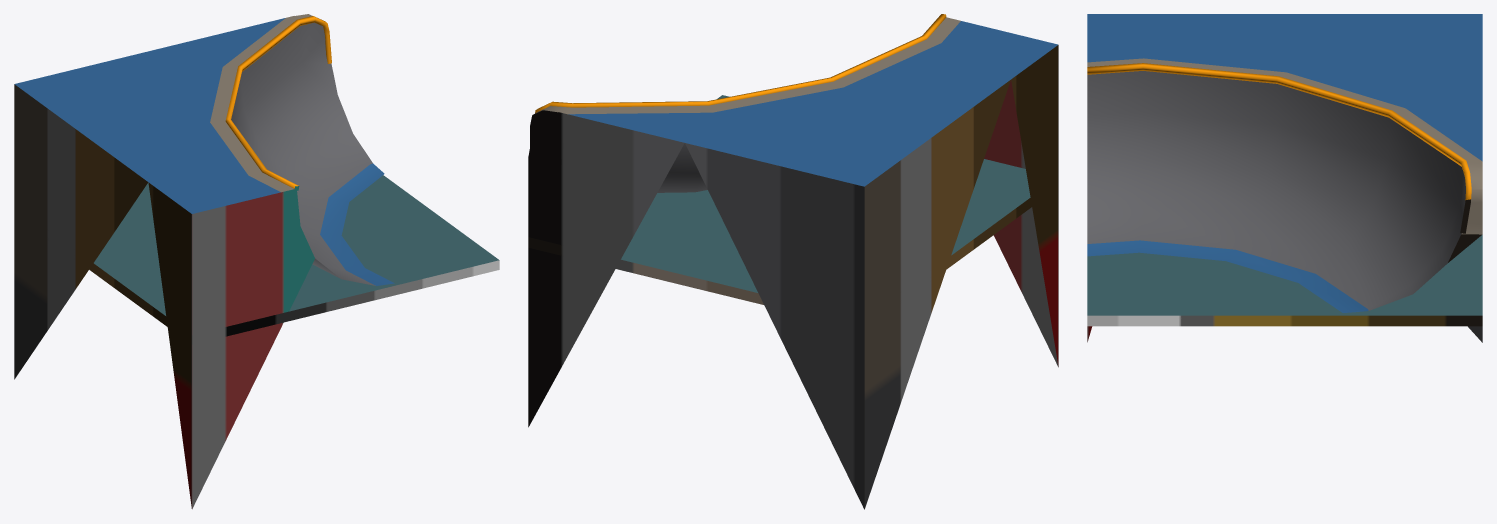
Rendered from tile_9_0_2.gltf.
3 renders of one model, left to right at view 1: azimuth 30°, elevation 25°; view 2: azimuth 150°, elevation 25°; view 3: azimuth 270°, elevation 25°, orthographic. The views are drawn at different scales.
Visible parts, largest first — view 1: pipe.main, ground, pipe.main.rim; view 2: pipe.main, ground, pipe.main.rim; view 3: pipe.main, ground, pipe.main.rim.
Part boxes in pixels (bbox=[...]): pipe.main: bbox=[14, 14, 394, 509]; ground: bbox=[14, 175, 499, 344]; pipe.main.rim: bbox=[225, 16, 331, 190]; pipe.main: bbox=[528, 17, 1058, 509]; ground: bbox=[528, 95, 1031, 328]; pipe.main.rim: bbox=[535, 14, 946, 113]; pipe.main: bbox=[1087, 14, 1482, 342]; ground: bbox=[1087, 235, 1482, 326]; pipe.main.rim: bbox=[1087, 63, 1471, 233].
Size of what is drawn, in the model's own units: 8 by 7.42 by 8.
Materials: 1 (1 with a texture image).
